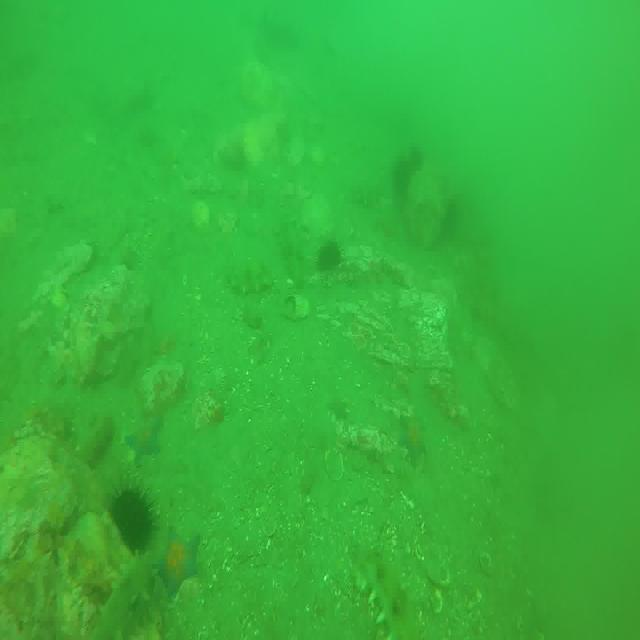echinus: (113, 485, 157, 559), (314, 237, 340, 274), (391, 164, 412, 203), (407, 144, 424, 175)
holothurian: (352, 540, 419, 640), (90, 554, 164, 636)
starfish: (157, 526, 200, 598), (129, 408, 164, 460), (397, 412, 426, 467)
